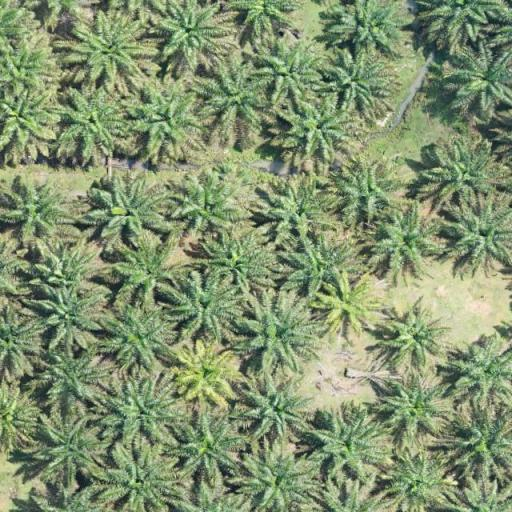Ganoderma: (182, 350, 232, 395), (322, 280, 370, 322)
